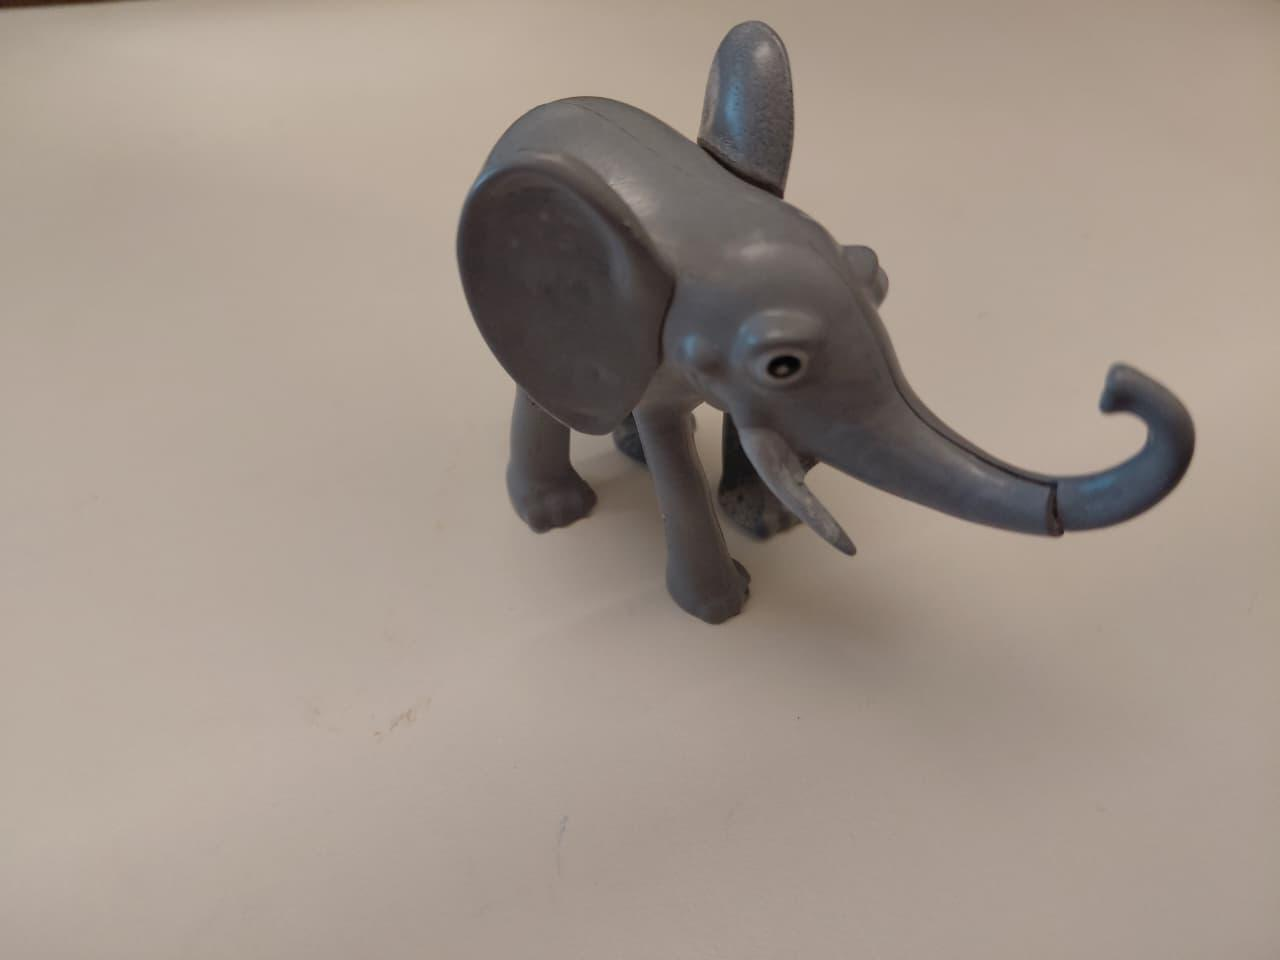elephant: (431, 18, 1211, 636)
